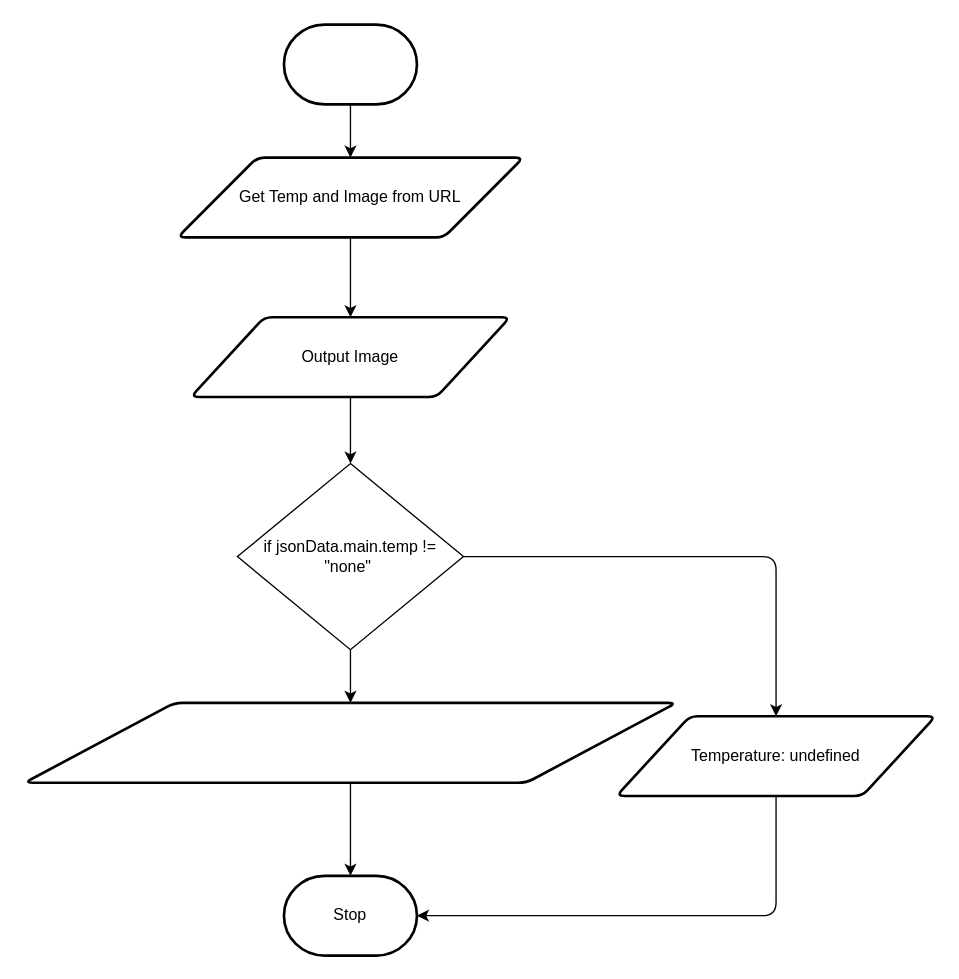
Some shapes in this 959 by 979 pixel diagram are drawn without their labels. The shapes that lost their labels are listed below. From the top down, each one's centre as x and y in pixels, then its label:
point 350,64: Start
point 350,742: "<p>Temperature: " + tempInCelsius.toFixed(0) + "°C</p>"
